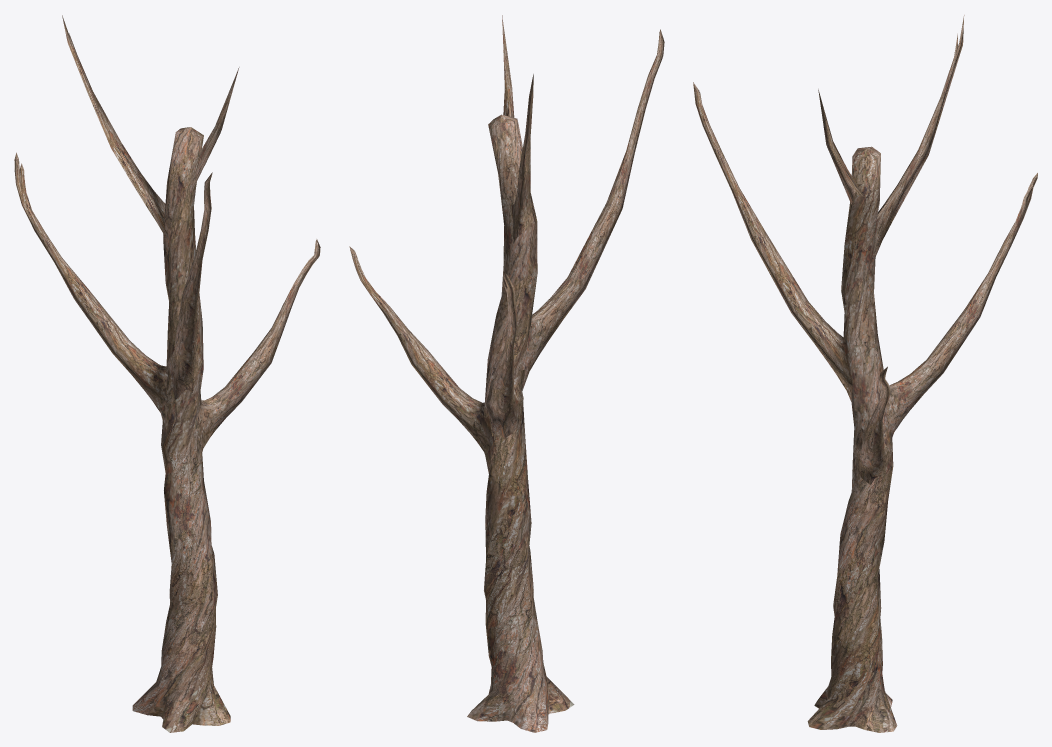
File: trunk1.obj
3 renders of one model, left to right at view 1: azimuth 30°, elevation 25°; view 2: azimuth 150°, elevation 25°; view 3: azimuth 270°, elevation 25°, orthographic. The views are drawn at different scales.
Parts seen in each view (by area): view 1: tree; view 2: tree; view 3: tree.
Part boxes in pixels (box(x1,y1,x2,y2)): tree: box(14, 15, 320, 732); tree: box(349, 15, 664, 732); tree: box(693, 15, 1037, 732).
Size of the model in its own units: 202 by 562 by 263.
1 material, 1 textured.
